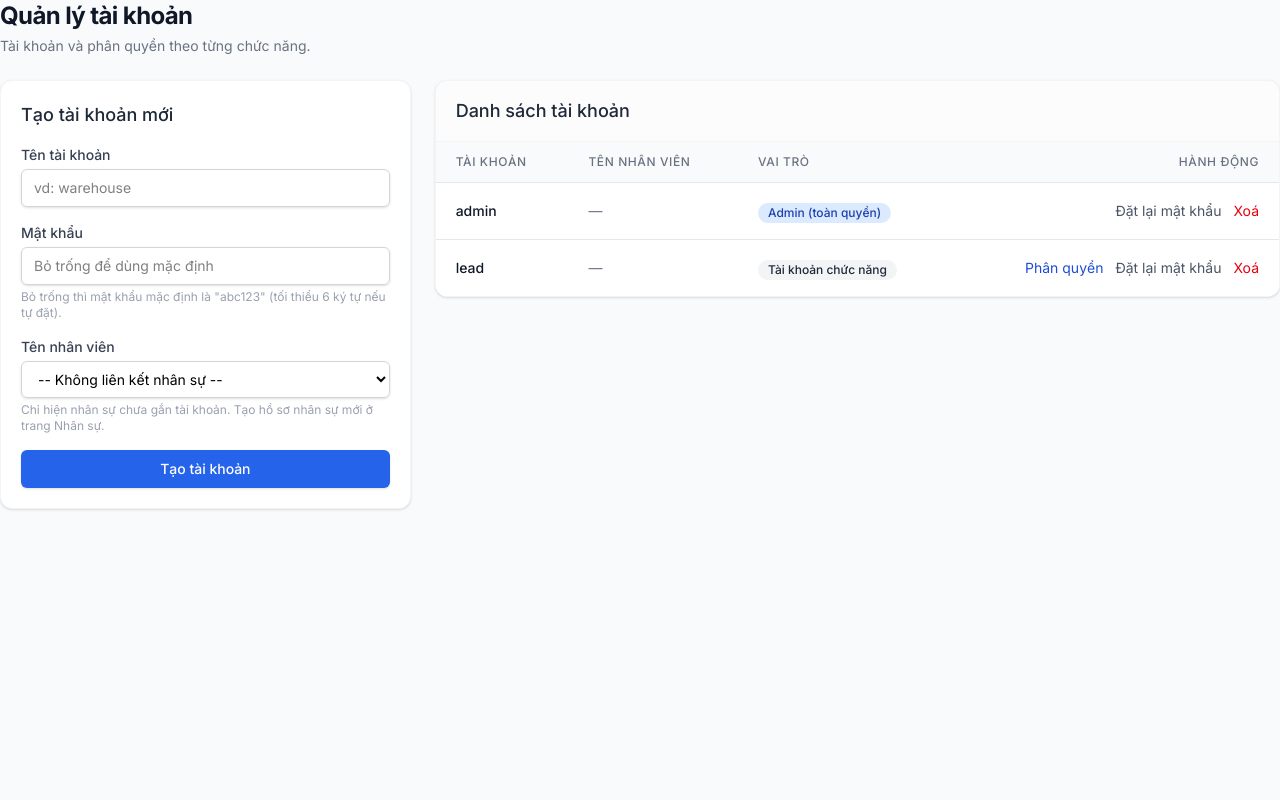
Test: AccountsPage › mở ma trận quyền cho tài khoản chức năng và hiện đúng ô đã cấp quyền
The image size is (1280, 800).
expect the text "lead" is shown: met, box [436,240,568,296]
Click the button "Phân quyền": point(1064, 268) [1025,258,1104,278]
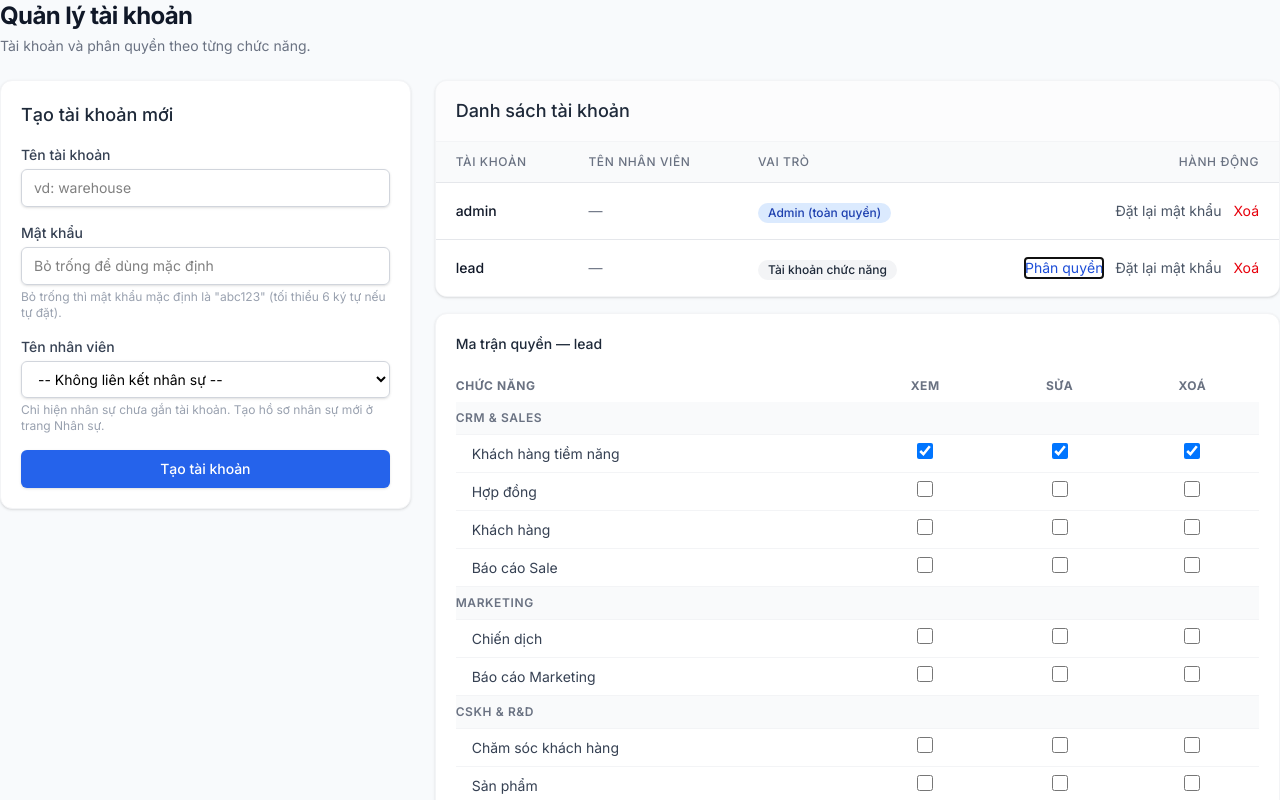
expect the heading "Ma trận quyền — lead" is shown: met, box [456,335,602,352]
